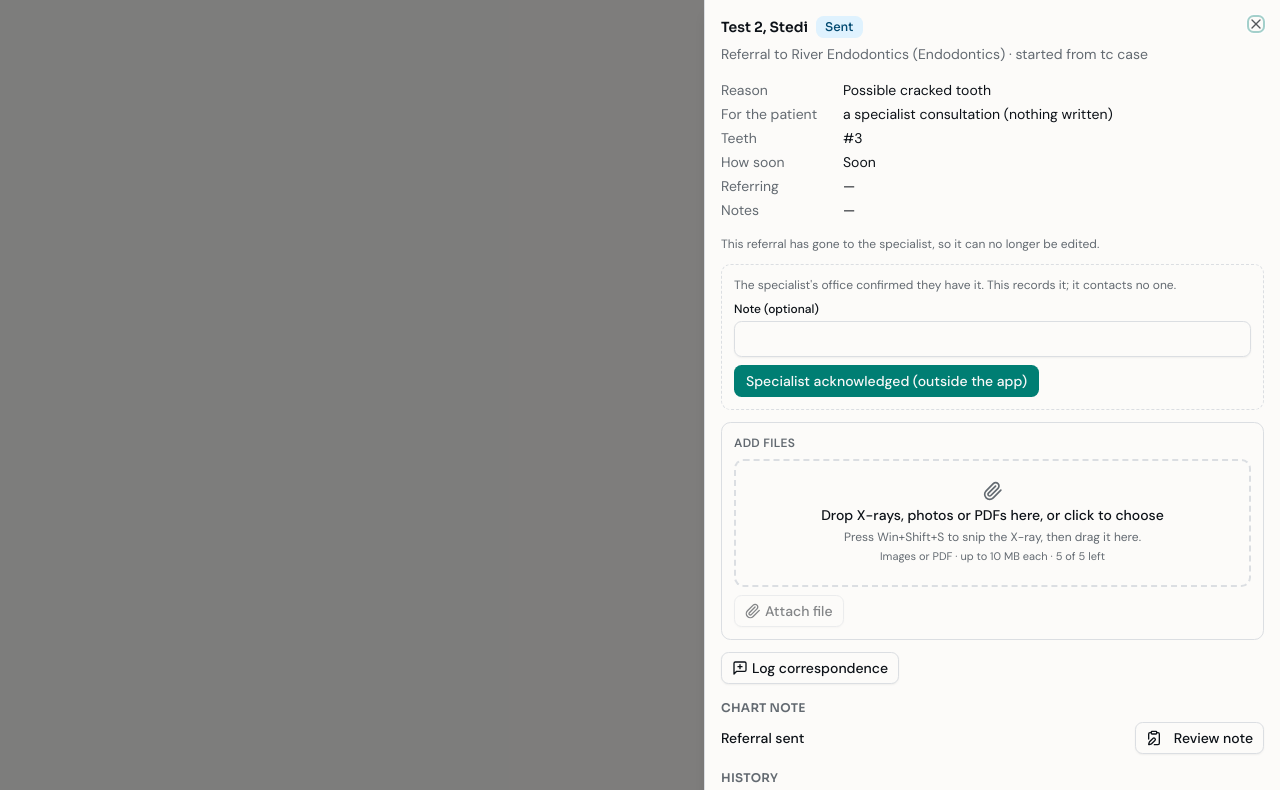
Test: 3: who sees the section, where › an office that cannot take a note: the button is disabled and the server's reason is beside it
The image size is (1280, 790).
Expected: the heading "History" is shown, [721,770,778,785]
Click the button with test id "tc-chart-note-sent-review": [1199, 738] box [1135,722,1264,754]
(page scrolled)
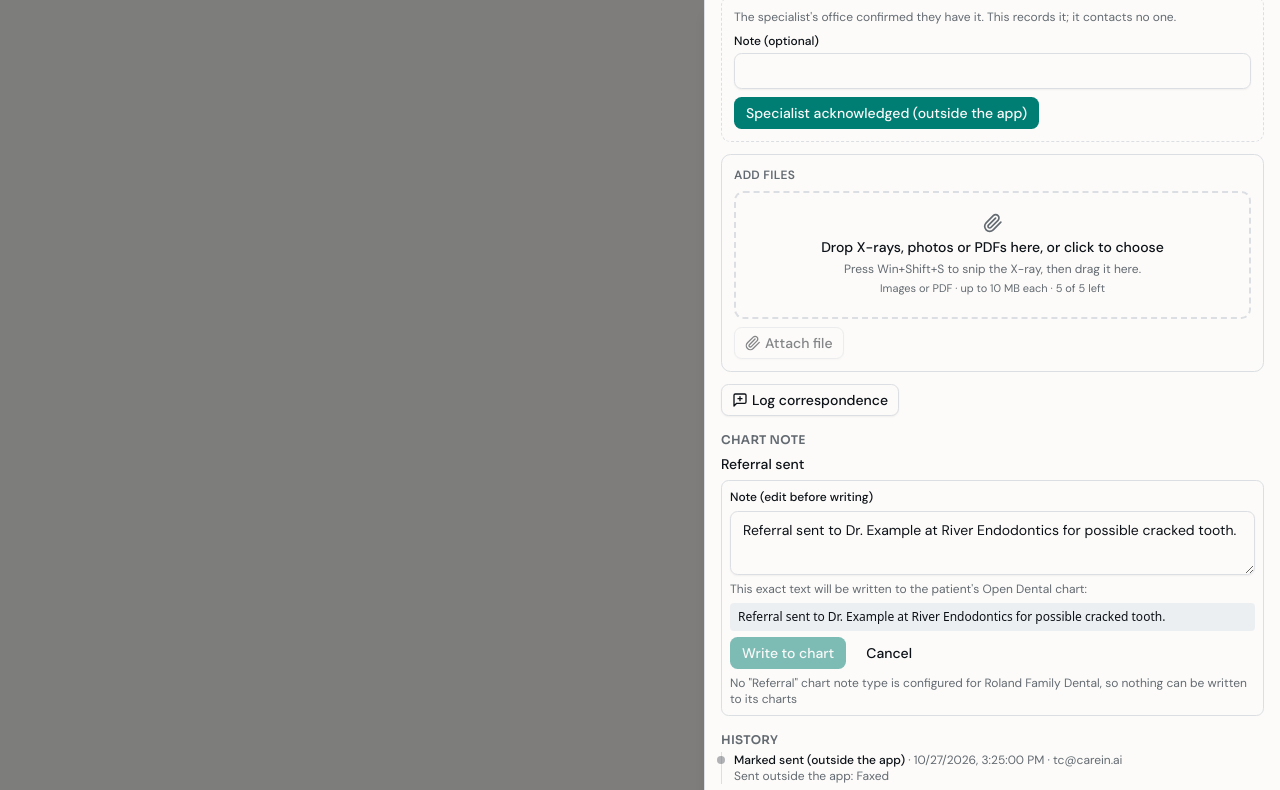
Result: the button with test id "tc-chart-note-sent-write" is disabled at [730,637,846,669]
Result: the text with test id "tc-chart-note-sent-blocked" shows "No \"Referral\" chart note type is configured for Roland Family Dental, so nothing can be written to its charts" at [730,675,1247,707]
